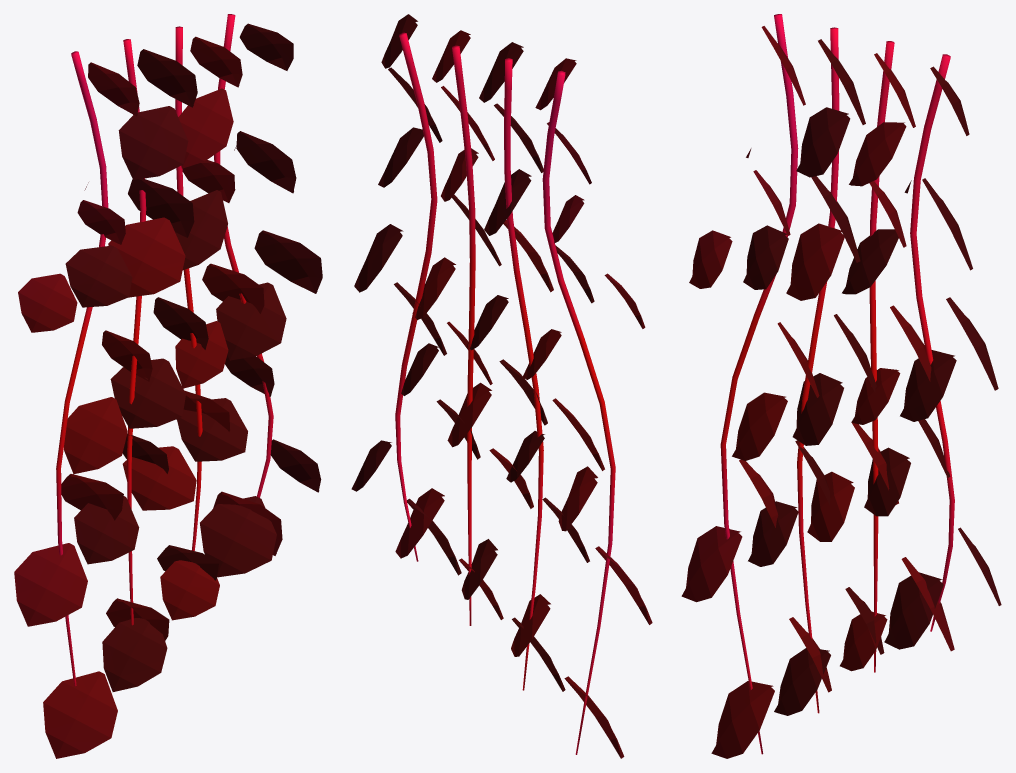
The model's file is SM_Ivy.fbx.
The picture shows the model from 3 angles, left to right: view 1: azimuth 30°, elevation 25°; view 2: azimuth 150°, elevation 25°; view 3: azimuth 330°, elevation 25°; orthographic projection. The views are drawn at different scales.
Parts seen in each view (by area): view 1: SM_Ivy; view 2: SM_Ivy; view 3: SM_Ivy.
Part boxes in pixels (<box>): SM_Ivy: <box>14,14,322,758</box>; SM_Ivy: <box>351,14,652,758</box>; SM_Ivy: <box>681,14,1001,758</box>.
Bounding box in the file's own units: 17.62 × 79.57 × 175.
